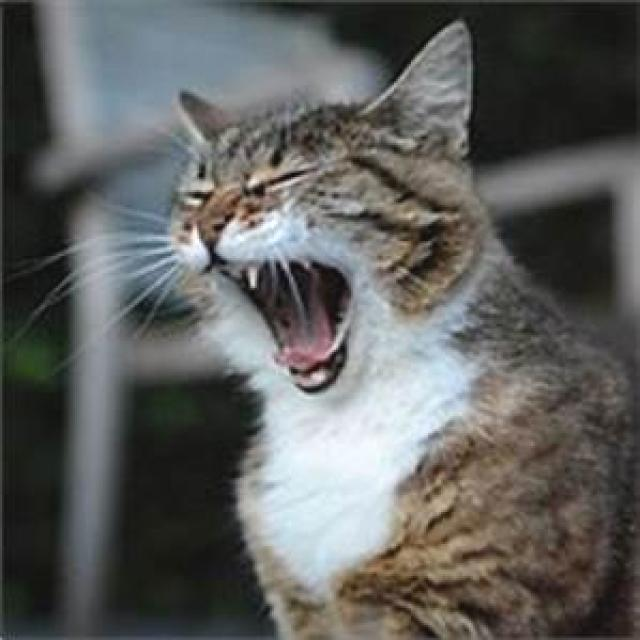KEDI: (154, 15, 640, 640)
